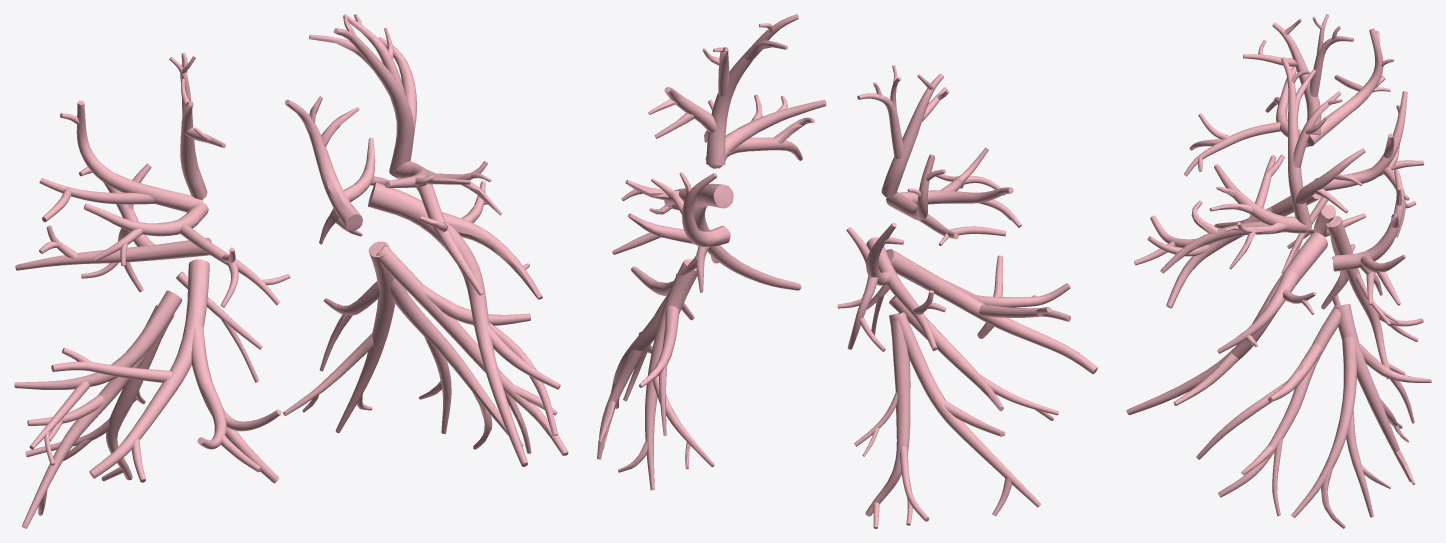
The model's file is lungs-airways.glb.
3 renders of one model, left to right at view 1: azimuth 30°, elevation 25°; view 2: azimuth 150°, elevation 25°; view 3: azimuth 270°, elevation 25°, orthographic. The views are drawn at different scales.
Parts seen in each view (by area): view 1: left_lung_bronchial_tree, right_lung_bronchial_tree; view 2: right_lung_bronchial_tree, left_lung_bronchial_tree; view 3: left_lung_bronchial_tree, right_lung_bronchial_tree.
Part boxes in pixels (bbox=[...]): left_lung_bronchial_tree: bbox=[283, 14, 568, 466]; right_lung_bronchial_tree: bbox=[14, 52, 290, 528]; right_lung_bronchial_tree: bbox=[837, 65, 1097, 528]; left_lung_bronchial_tree: bbox=[597, 14, 826, 490]; left_lung_bronchial_tree: bbox=[1126, 57, 1431, 528]; right_lung_bronchial_tree: bbox=[1134, 14, 1424, 379].
Size of the model in its own units: 0.2394 by 0.2283 by 0.1576.
